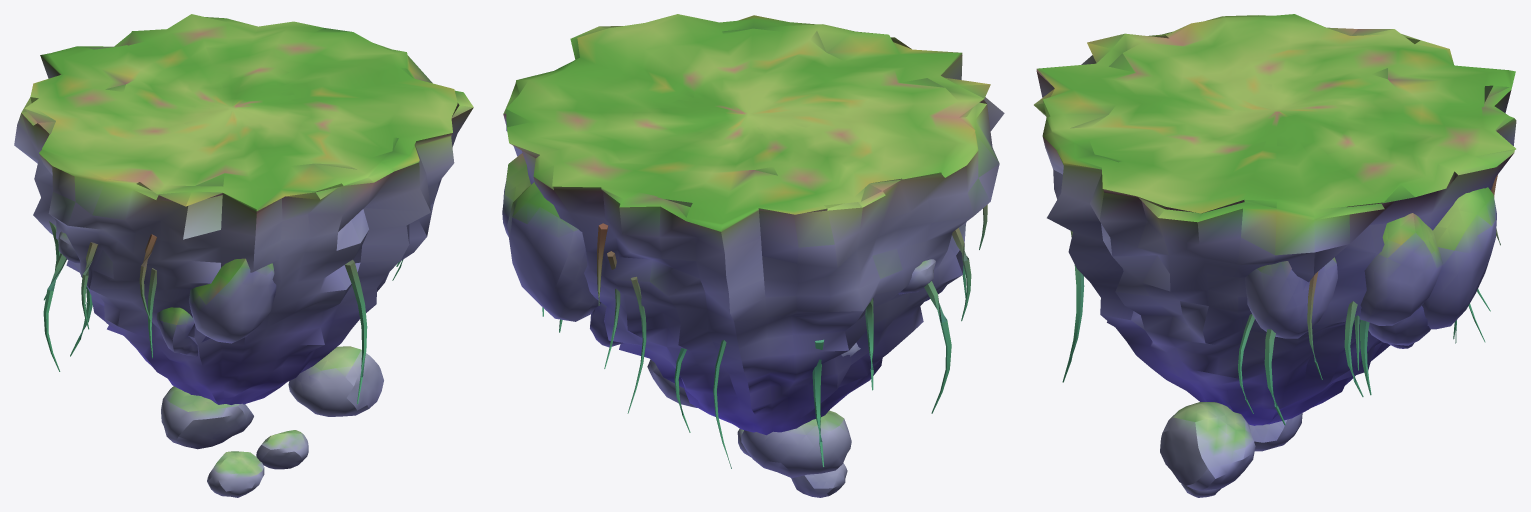
The model's file is verdant_island_40.glb.
3 views of the same model, side by side, from view 1: azimuth 30°, elevation 25°; view 2: azimuth 150°, elevation 25°; view 3: azimuth 270°, elevation 25° (orthographic). The views are drawn at different scales.
Parts seen in each view (by area): view 1: verdant_island_40, Floater_1, Floater_5, Floater_4, Floater_6; view 2: verdant_island_40, Floater_5, Floater_4, Floater_1, Floater_0; view 3: verdant_island_40, Floater_1, Floater_5.
Part boxes in pixels (x1,y1,x2,y2): verdant_island_40: (14,14,473,404); Floater_1: (288,346,383,416); Floater_5: (161,386,253,449); Floater_4: (207,451,264,497); Floater_6: (256,430,308,469); verdant_island_40: (502,14,1004,468); Floater_5: (741,410,851,477); Floater_4: (791,463,847,497); Floater_1: (647,359,697,407); Floater_0: (898,259,935,294); verdant_island_40: (1034,14,1516,425); Floater_1: (1160,402,1255,490); Floater_5: (1249,413,1302,451).
Size of the model in its own units: 42.61 by 36.65 by 40.46.
